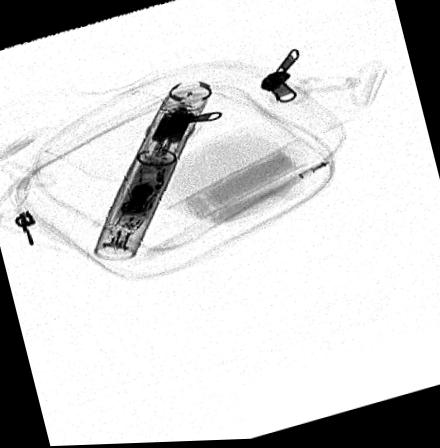Baton: (90, 80, 210, 262)
